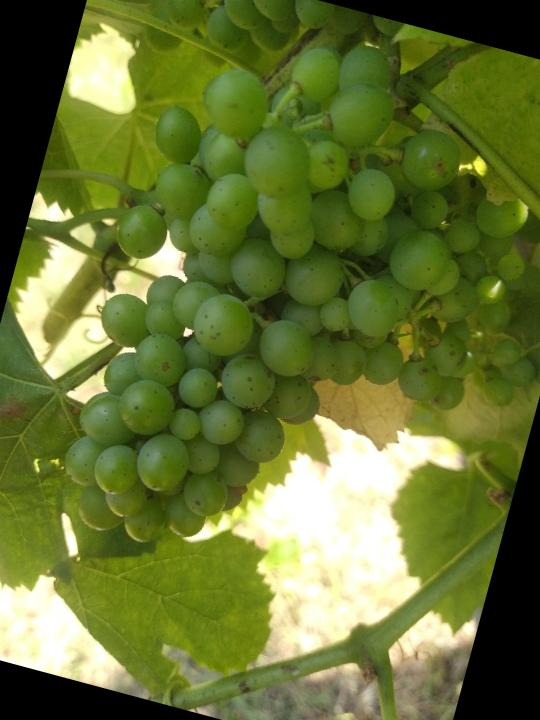grape: (32, 0, 540, 637)
